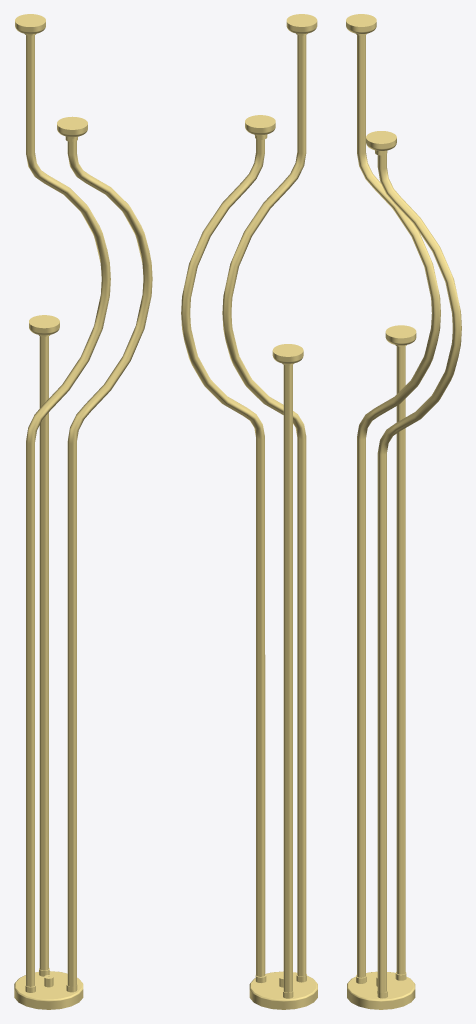
Rendered from CurvyStandGold.glb.
3 views of the same model, side by side, from view 1: azimuth 30°, elevation 25°; view 2: azimuth 210°, elevation 25°; view 3: azimuth 330°, elevation 25° (orthographic).
Parts seen in each view (by area): view 1: Stand; view 2: Stand; view 3: Stand.
Part boxes in pixels (bbox=[...]): Stand: bbox=[14, 14, 152, 1009]; Stand: bbox=[181, 14, 317, 1009]; Stand: bbox=[346, 14, 461, 1009].
Bounding box in the file's own units: 0.0373 × 0.28 × 0.0204.
1 material, 1 textured.
